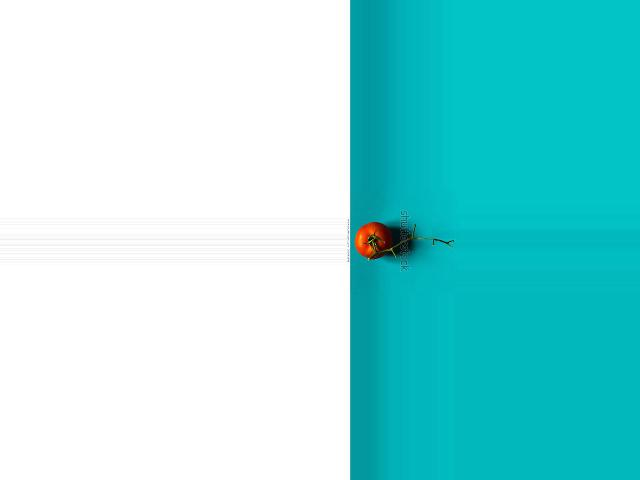tomato: (355, 222, 391, 260)
